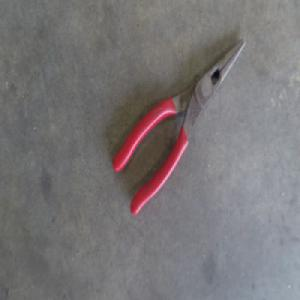Pliers: (112, 38, 245, 215)
